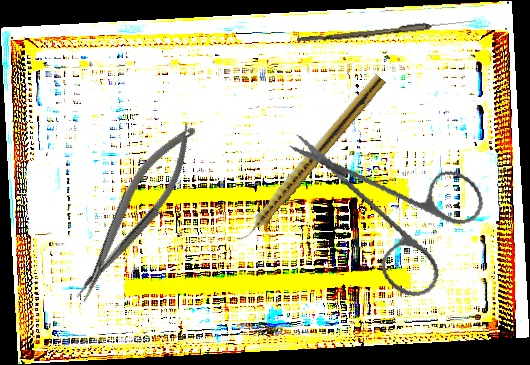Handpiece: (233, 70, 387, 249)
Iris Scissors: (287, 100, 499, 316)
Needle Holder: (57, 114, 212, 309)
Surgical Spoon: (297, 16, 477, 46)
